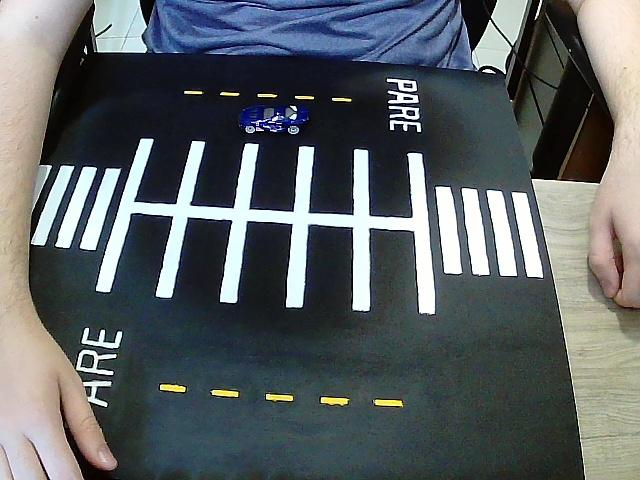Carro: (238, 104, 309, 136)
